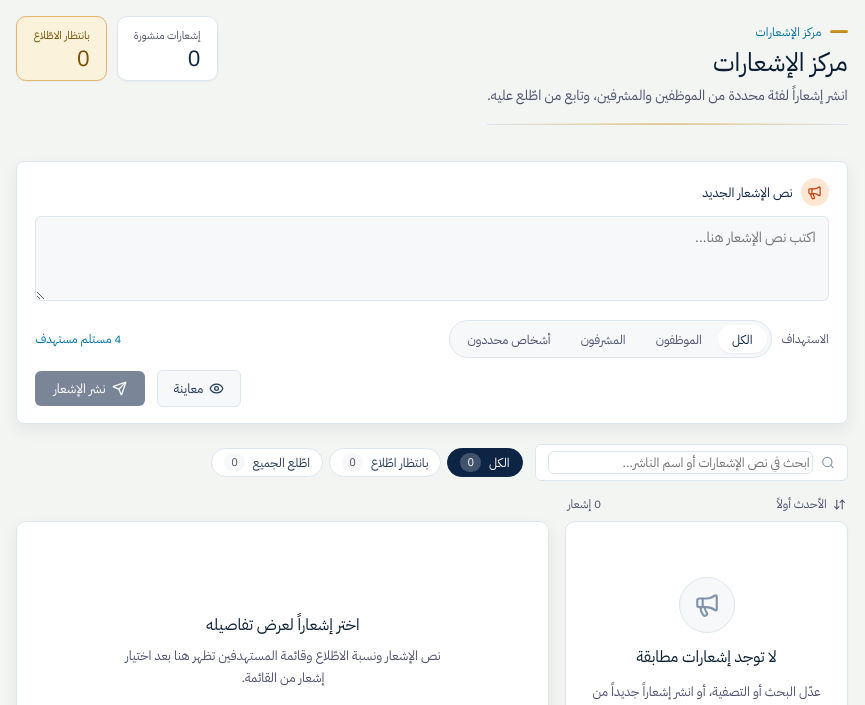
Scenario: NotificationComposer targeting › counts the reach of every target against the live audience roster
Expected: the heading "لا توجد إشعارات مطابقة" is shown, [636,645,777,669]
Expected: the text "4 مستلم مستهدف" is shown, [35,330,122,348]
Click the tab "الموظفون" at (679, 339), box [642,325,716,353]
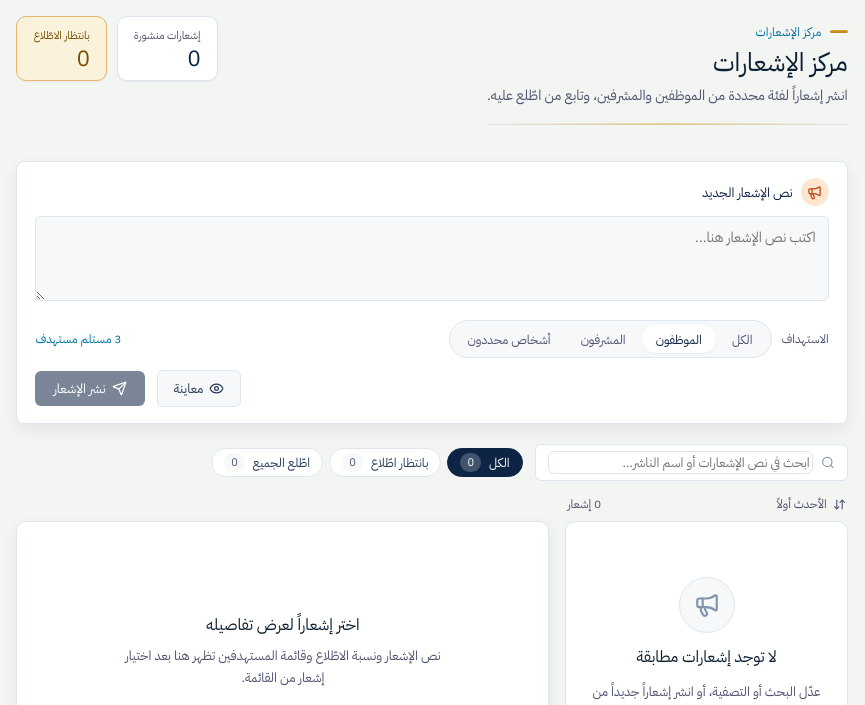
Expected: the text "3 مستلم مستهدف" is shown, [35,330,122,348]
Click the tab "المشرفون" at (603, 339), box [567,325,640,353]
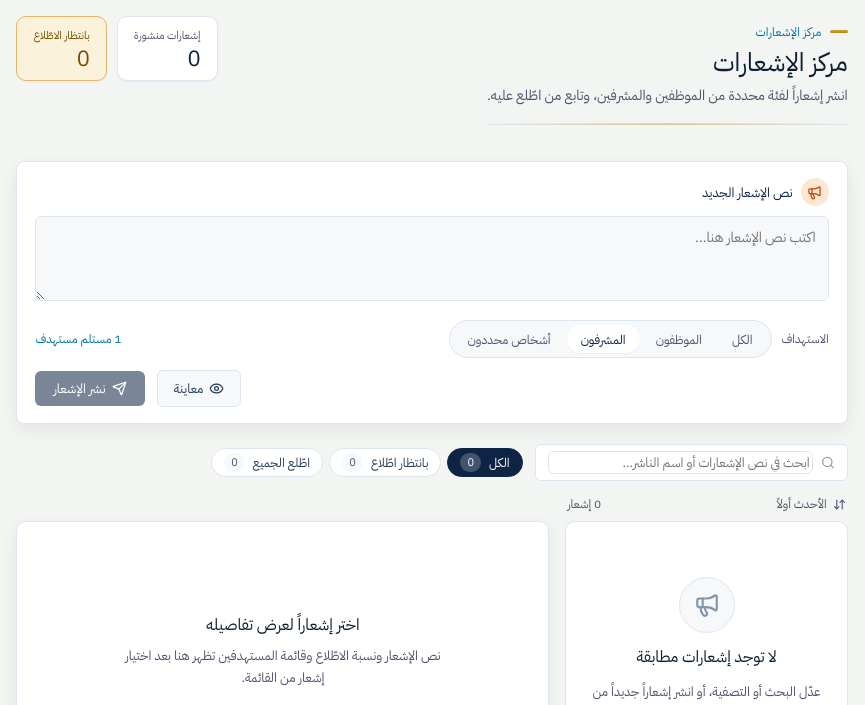
Expected: the text "1 مستلم مستهدف" is shown, [35,330,122,348]
Click the tab "أشخاص محددون" at (509, 339), box [454,325,565,353]
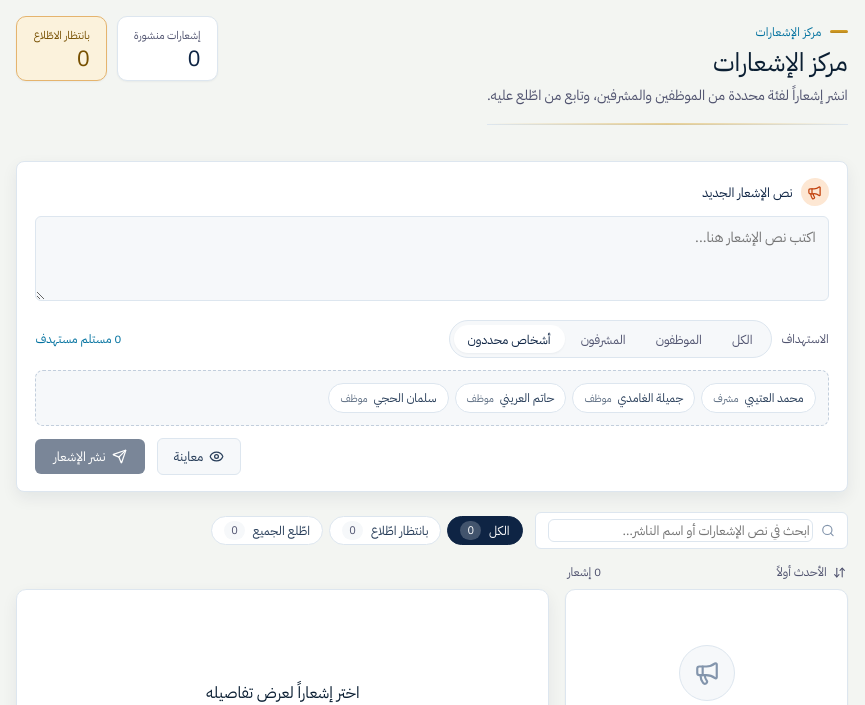
Expected: the text "0 مستلم مستهدف" is shown, [35,330,122,348]
